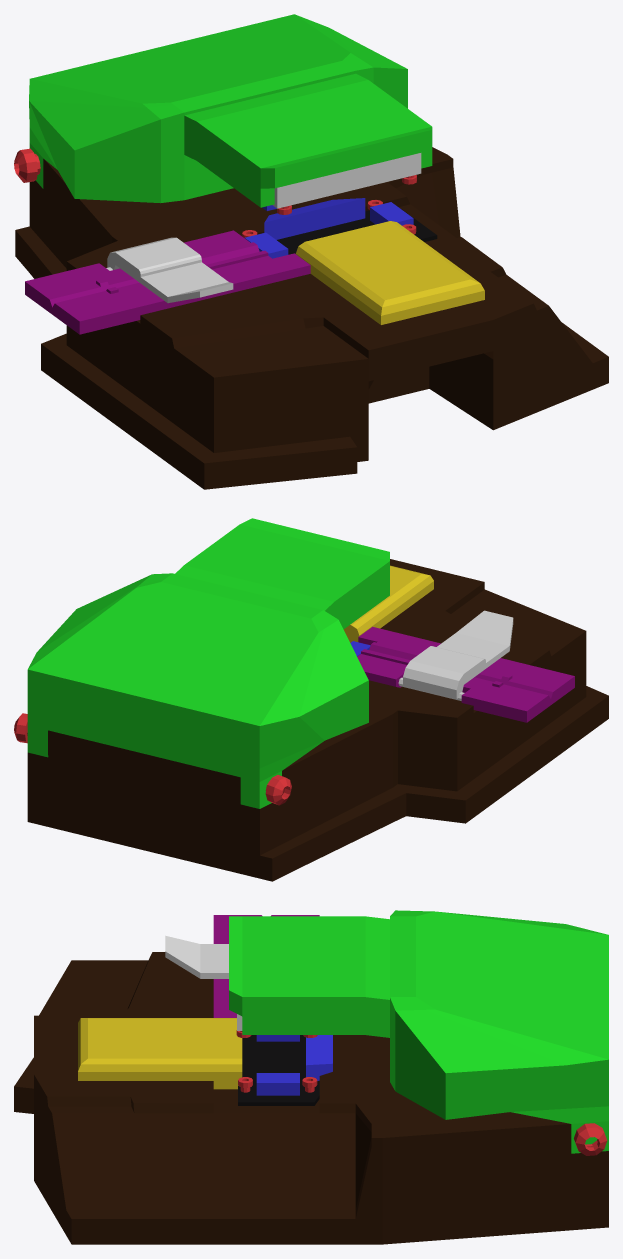
The picture shows the model from 3 angles, top to bottom: view 1: azimuth 30°, elevation 25°; view 2: azimuth 150°, elevation 25°; view 3: azimuth 270°, elevation 25°; orthographic projection. The views are drawn at different scales.
Parts seen in each view (by area): view 1: CaseMain, LidMain, BarLid; view 2: CaseMain, LidMain, BarLid; view 3: CaseMain, LidMain, BarLid.
Part boxes in pixels (x1,y1,x2,y2): CaseMain: (15, 147, 608, 489); LidMain: (14, 14, 432, 214); BarLid: (106, 237, 233, 303); CaseMain: (27, 559, 608, 881); LidMain: (14, 518, 389, 808); BarLid: (398, 610, 513, 700); CaseMain: (14, 915, 608, 1244); LidMain: (229, 910, 608, 1155); BarLid: (165, 935, 228, 978).
Size of the model in its own units: 9.01 by 4.1 by 10.55.
